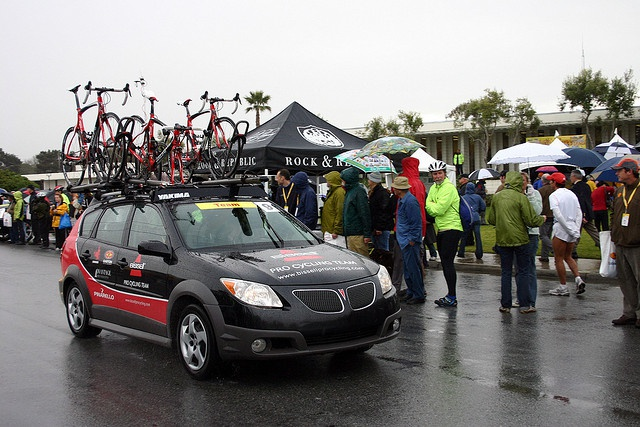non-vehicle: (60, 81, 133, 185), (124, 95, 193, 185), (176, 90, 242, 183)
